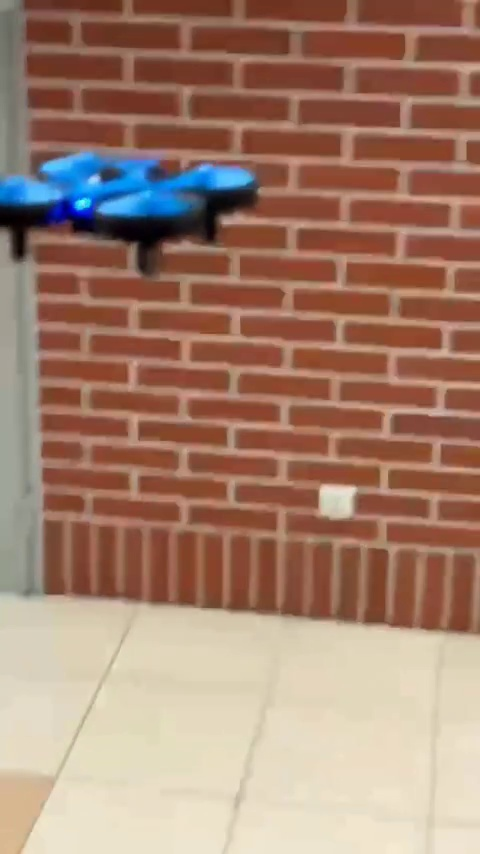drone: (0, 151, 268, 279)
